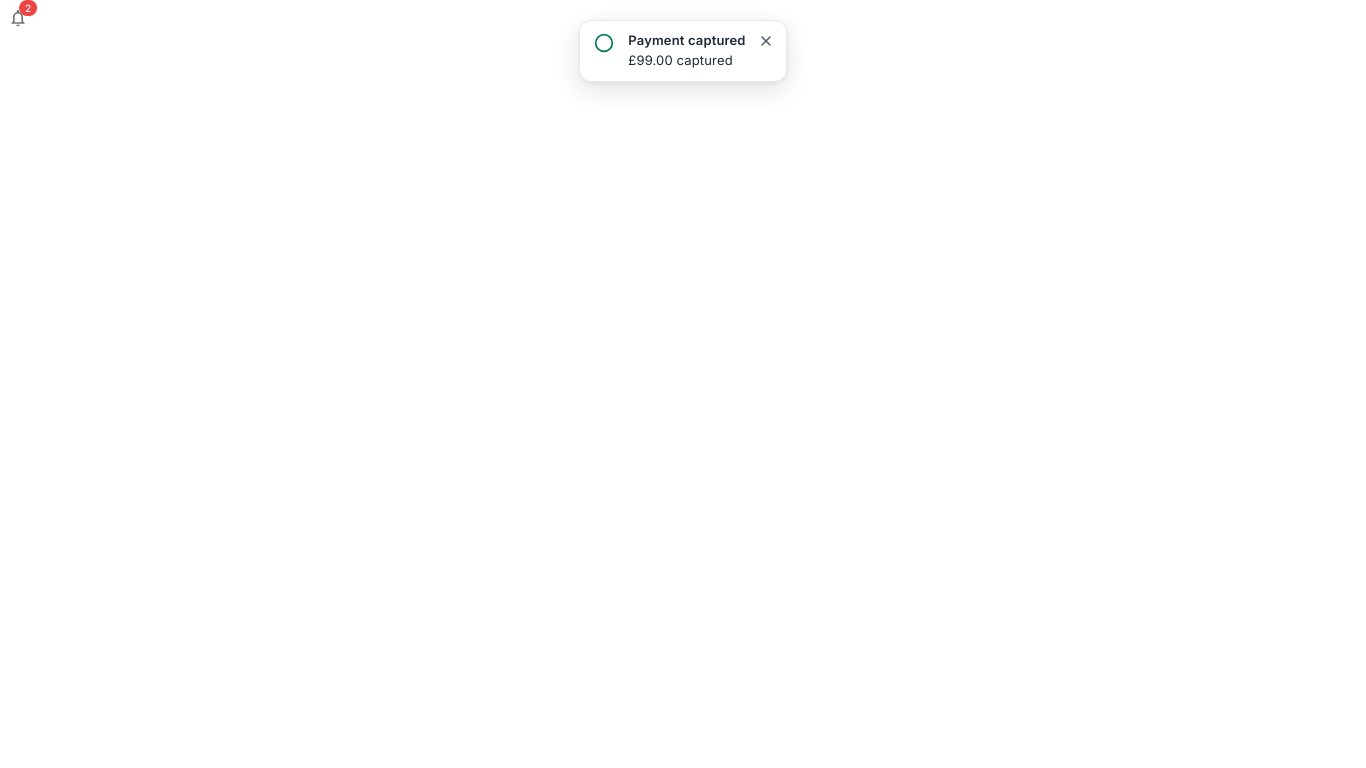
Test case: notification centre › shows unread count, type, time and read state, and marks and clears
Click the button named "Notifications, 2 unread".
click(18, 18)  # box [0,0,36,36]
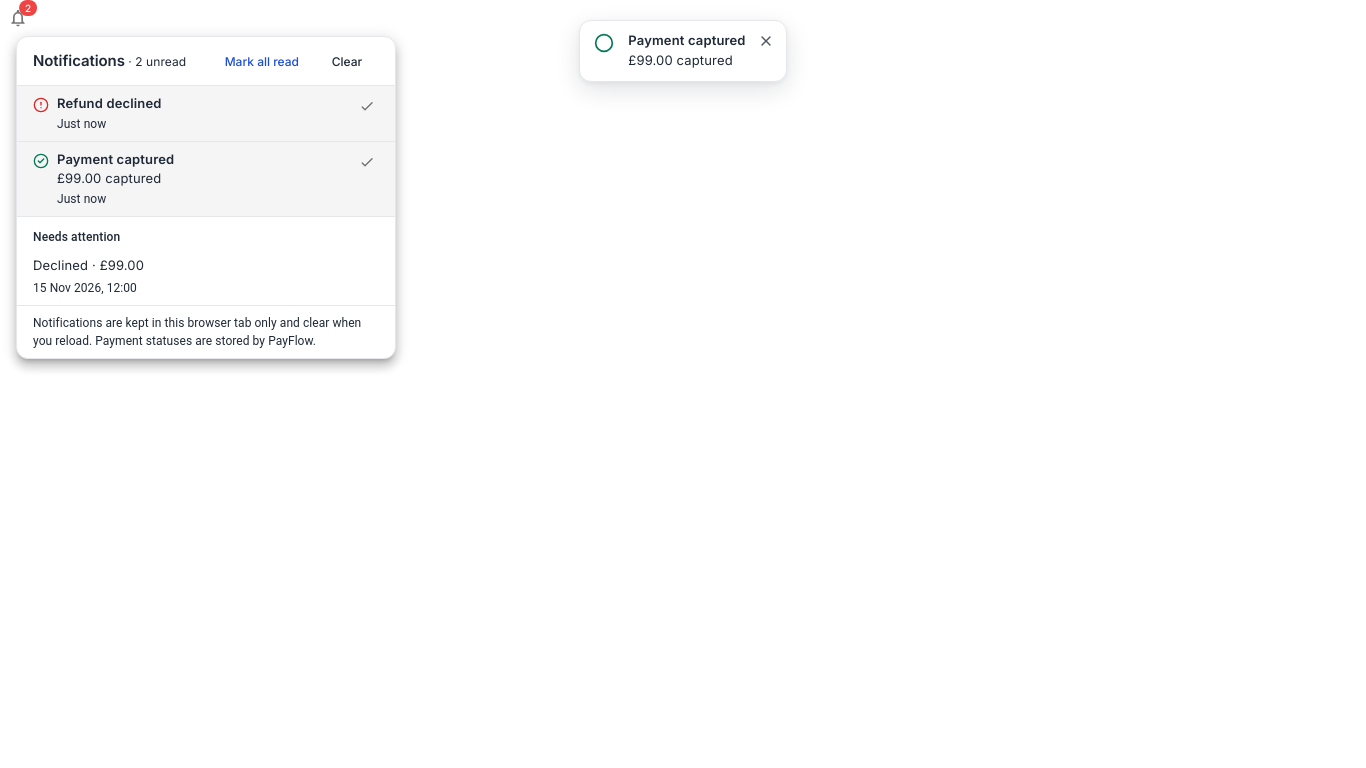
Expected: the list item "Unread. Refund declined Just now" is shown, [17,86,395,142]
Expected: the list item "Unread. Payment captured £99.00 captured Just now" is shown, [17,142,395,217]
Expected: the dialog "Notifications" shows "2 unread", [16,36,396,360]
Click the button named "Mark \"Refund declined\" as read".
click(367, 106)  # box [355,94,379,118]
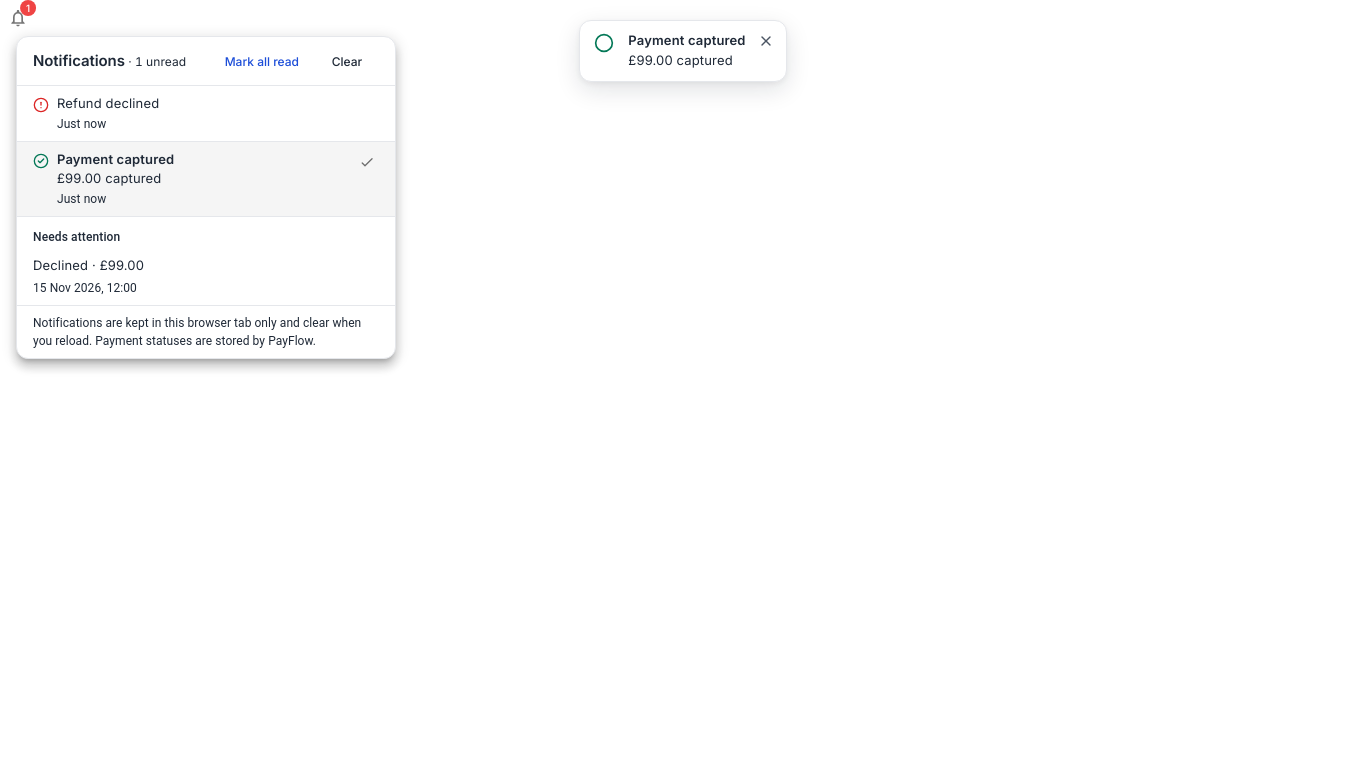
Expected: the button named "Notifications, 1 unread" is shown, [0,0,36,36]
Click the button "Mark all read".
click(262, 61)  # box [217,47,307,75]
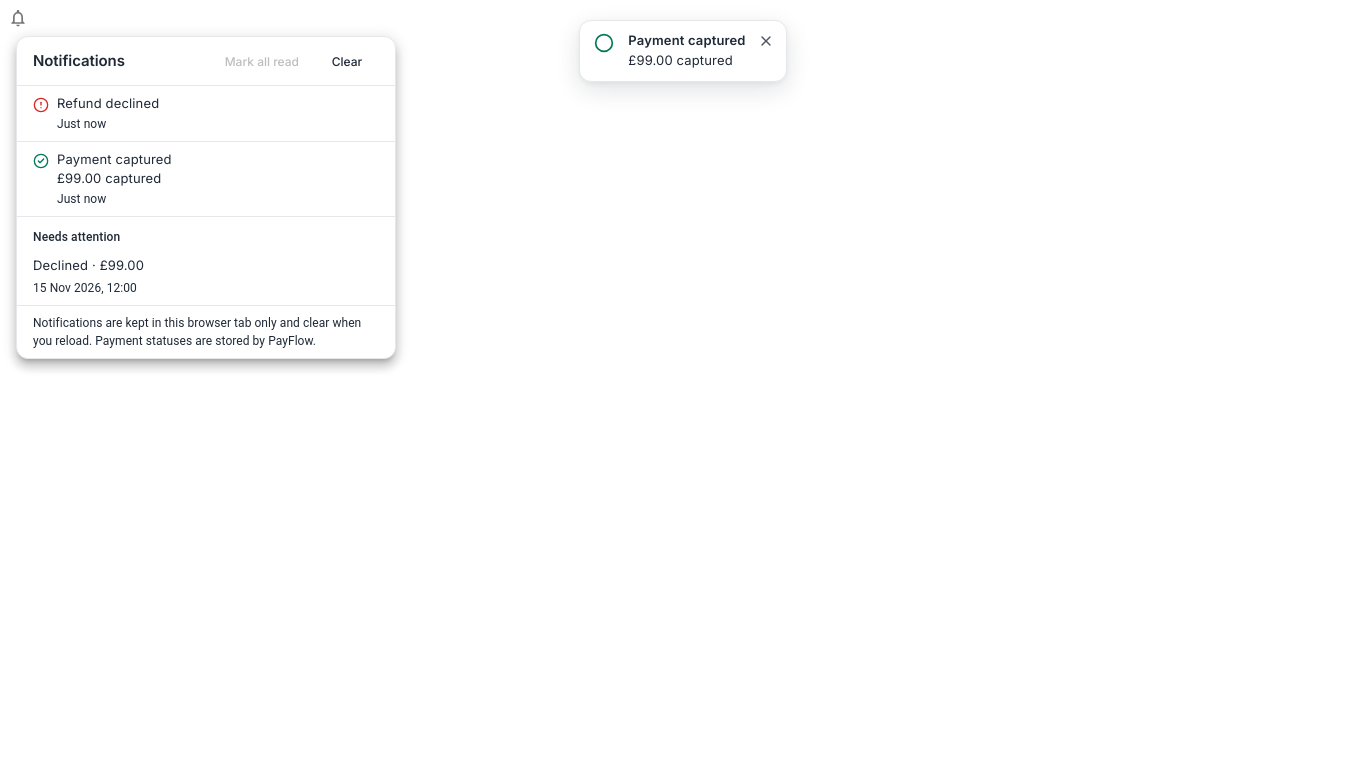
Expected: the button named "Notifications" is shown, [0,0,36,36]
Click the button "Clear".
click(347, 61)  # box [315,47,379,75]
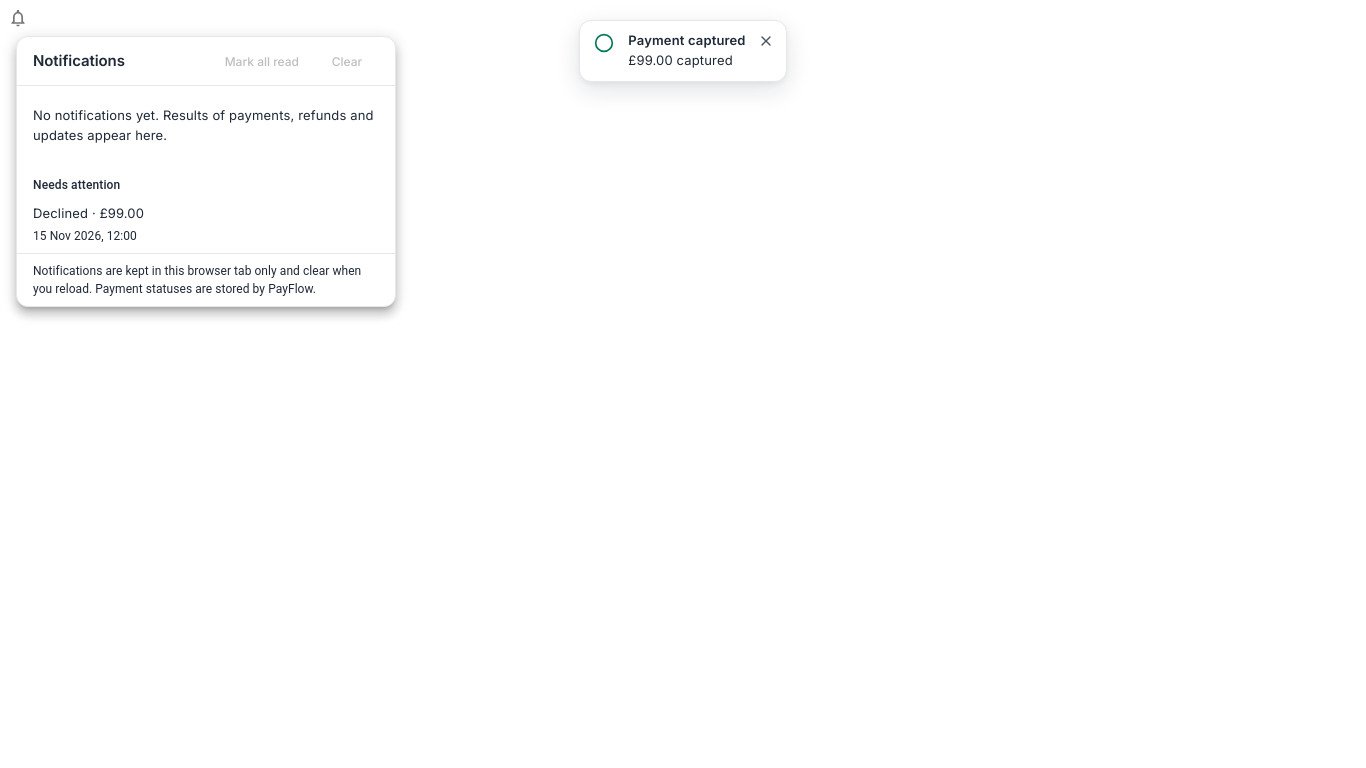
Expected: the dialog "Notifications" shows "No notifications yet", [33,107,374,142]
